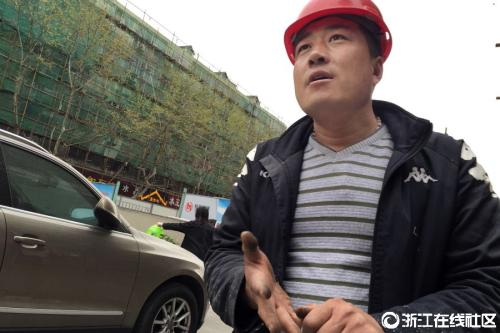hard-hat: (283, 0, 393, 64)
person: (201, 1, 500, 333), (159, 204, 216, 261)
